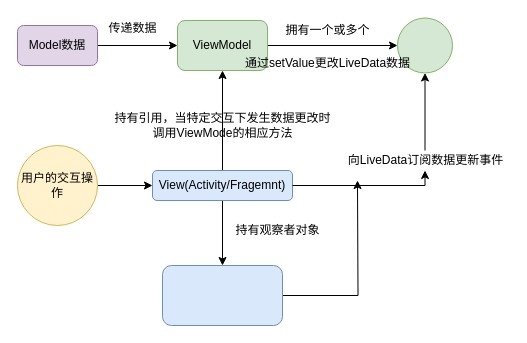
The diagram is 527 pixels wide and 343 high, and some of its shapes have lost their labels. The shapes that lost their labels are listed below. From the top down, each one's box as (x1, y1, x2, y2) in pixels, then its label:
(396, 17, 452, 73): LiveData
(162, 264, 282, 326): observer(实现Observer<T>接口)
